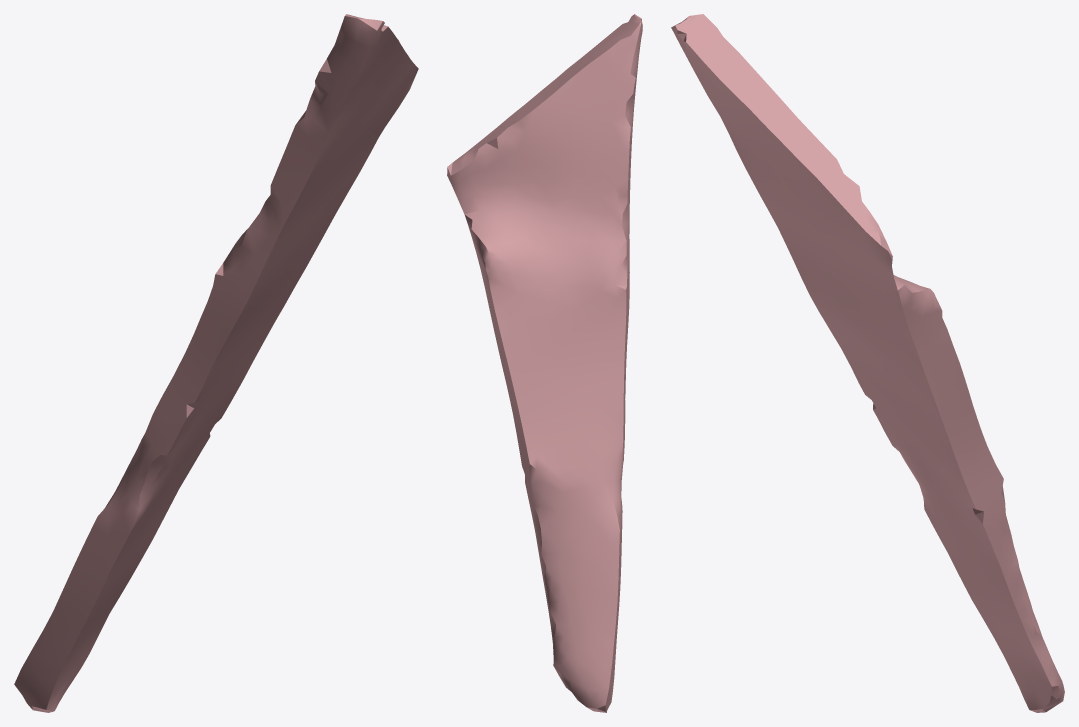
Rendered from fma78445-l_mm3094.glb.
The picture shows the model from 3 angles, left to right: view 1: azimuth 30°, elevation 25°; view 2: azimuth 150°, elevation 25°; view 3: azimuth 270°, elevation 25°; orthographic projection. The views are drawn at different scales.
Visible parts, largest first — view 1: FMA78445-L_MM3094; view 2: FMA78445-L_MM3094; view 3: FMA78445-L_MM3094.
Boxes of the visible parts, x1,y1,x2,y2 form: FMA78445-L_MM3094: (14,14,418,712); FMA78445-L_MM3094: (447,14,642,712); FMA78445-L_MM3094: (671,14,1064,712).
Bounding box in the file's own units: 0.00477 × 0.0116 × 0.0055.
